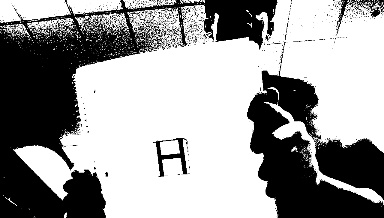H: (149, 137, 191, 175)
